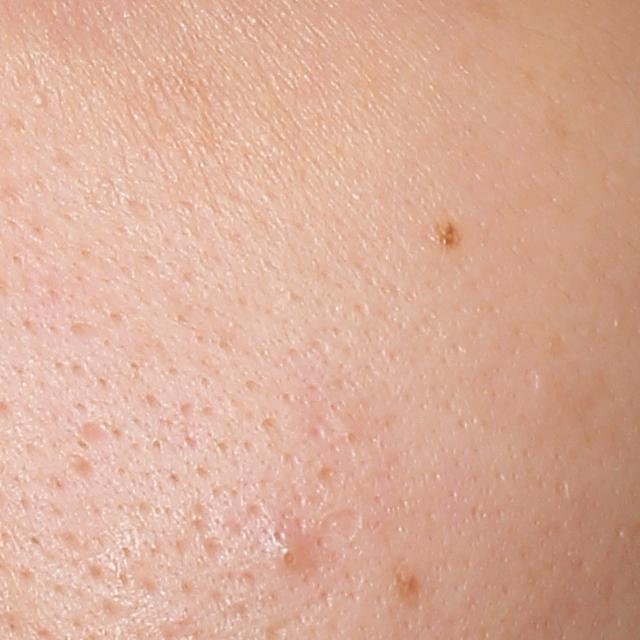atrophic_scar: (319, 508, 361, 542), (68, 453, 99, 482), (80, 419, 113, 445), (522, 366, 540, 392)
comedo: (270, 535, 316, 582), (30, 91, 47, 110)
nevus: (429, 212, 465, 252)
